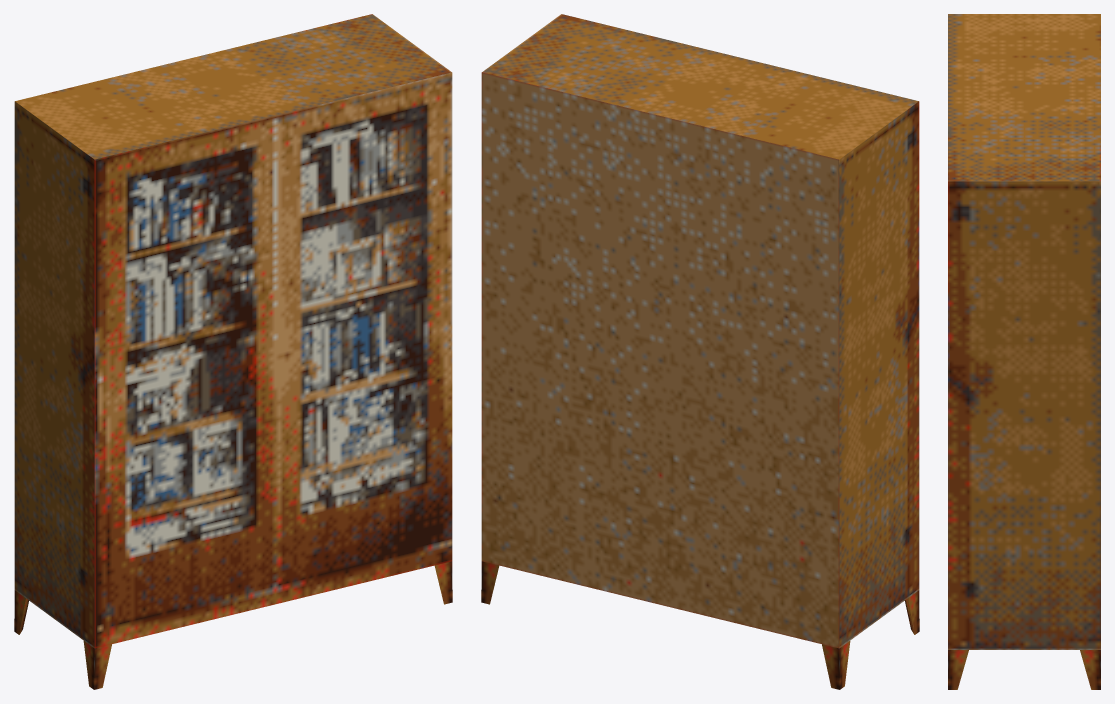
File: bookshelf.fbx
3 renders of one model, left to right at view 1: azimuth 30°, elevation 25°; view 2: azimuth 150°, elevation 25°; view 3: azimuth 270°, elevation 25°, orthographic. The views are drawn at different scales.
Visible parts, largest first — view 1: Bookshelf; view 2: Bookshelf; view 3: Bookshelf.
Part boxes in pixels (box(x1,y1,x2,y2)): Bookshelf: box(14, 14, 452, 689); Bookshelf: box(481, 14, 919, 689); Bookshelf: box(948, 14, 1100, 689).
Size of the model in its own units: 148 by 210 by 57.2.
Materials: 1 (1 with a texture image).
